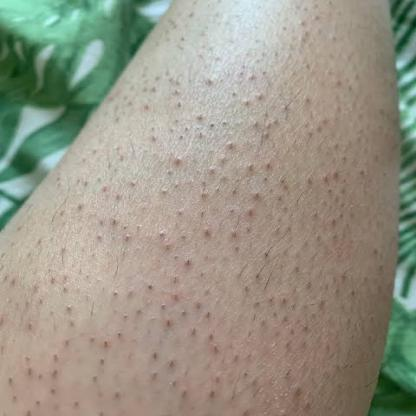Chicken Skin: (160, 27, 382, 411), (82, 72, 268, 414)
